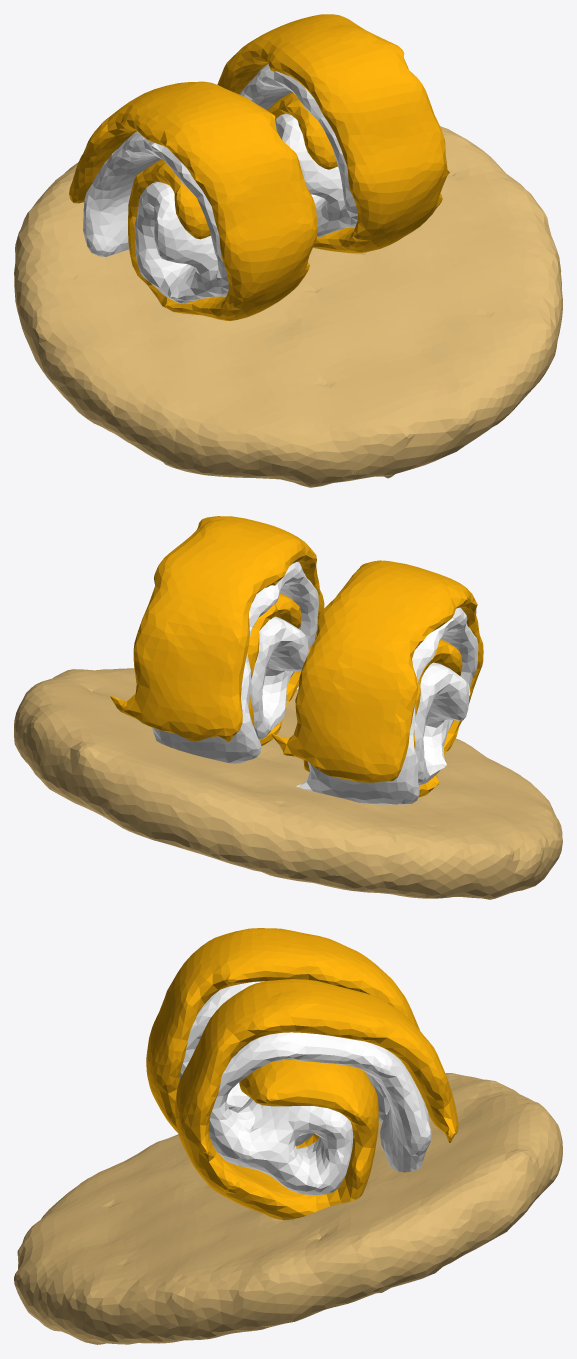
File: cake1_3.obj
3 renders of one model, top to bottom at view 1: azimuth 30°, elevation 25°; view 2: azimuth 150°, elevation 25°; view 3: azimuth 270°, elevation 25°, orthographic. The views are drawn at different scales.
Size of the model in its own units: 0.6081 by 0.4051 by 0.5913.
